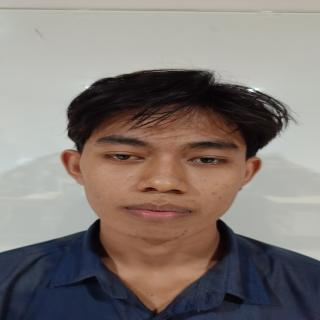Netral: (78, 96, 249, 247)
